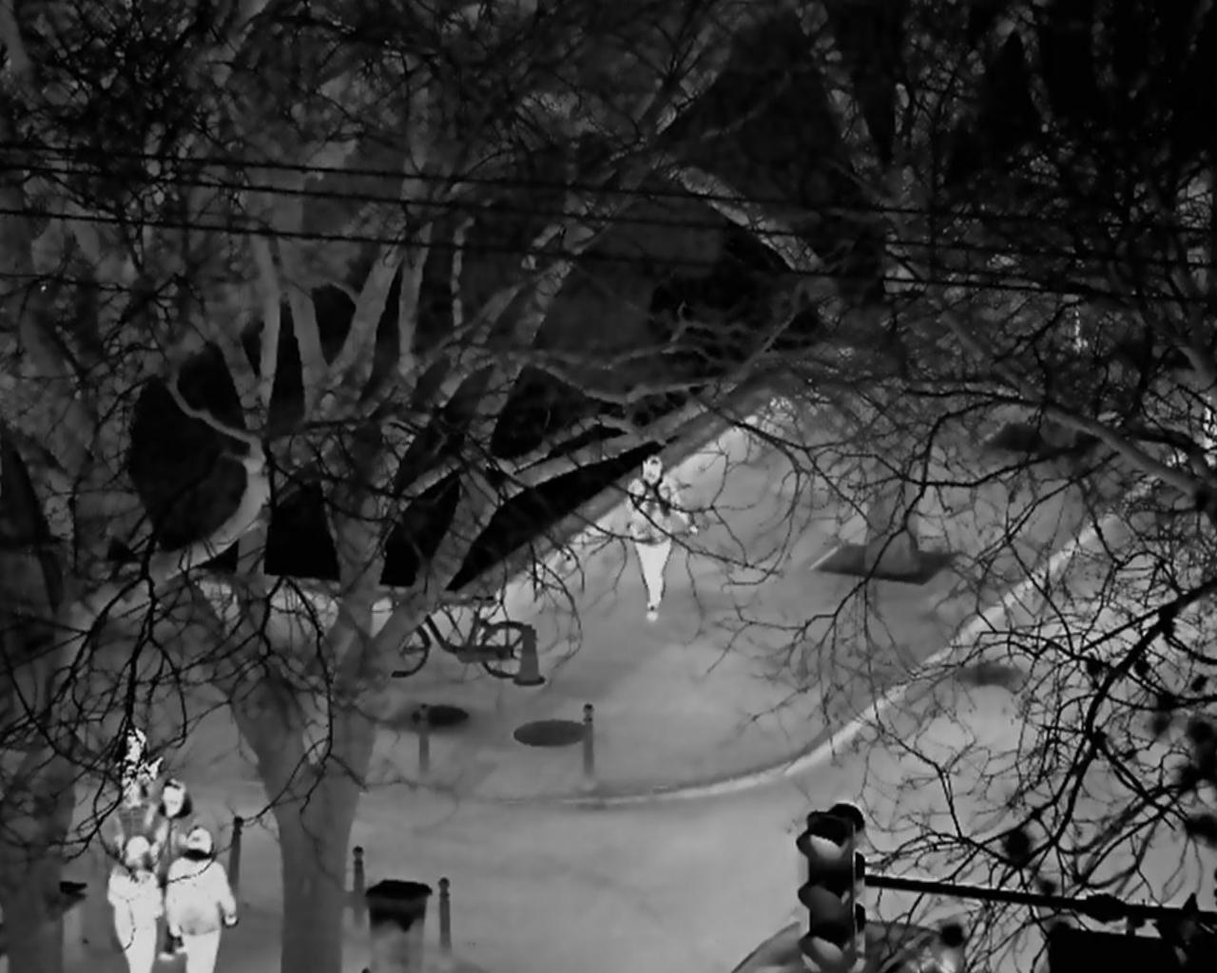person: (625, 454, 700, 625), (161, 826, 238, 973), (104, 832, 164, 973), (111, 721, 163, 852), (149, 773, 200, 876)
